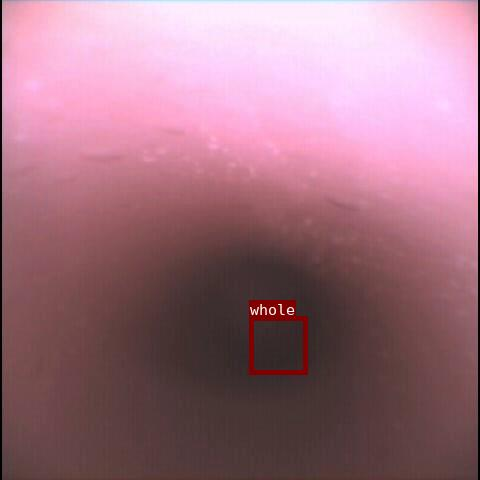whole: (249, 316, 307, 374)
